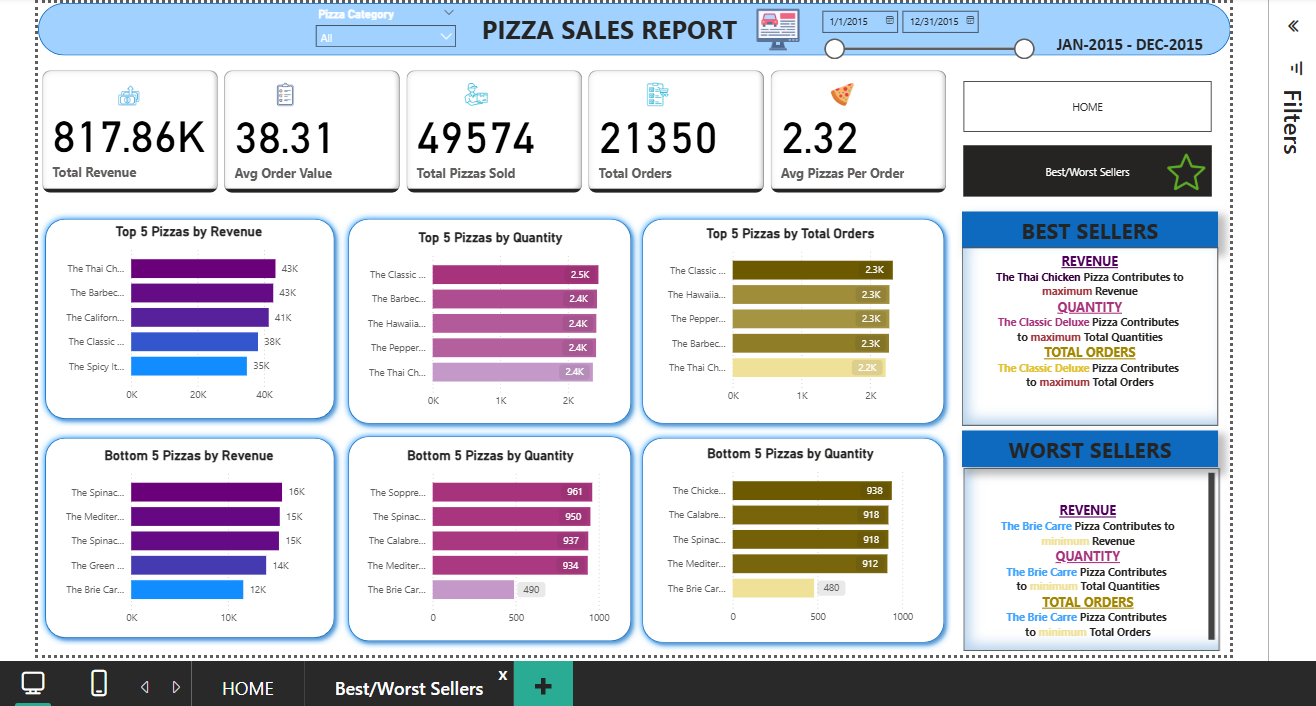

The page's visual inventory and layout, read from the dashboard file:
{"tool":"powerbi","page":{"name":"Best/Worst Sellers","canvas":[1500,820],"ordinal":1},"visuals":[{"type":"cardVisual","fields":{"Data":["pizza_sales.Total Revenue","pizza_sales.Avg Order Value","pizza_sales.Total Pizzas Sold","pizza_sales.Total Orders","pizza_sales.Avg Pizzas Per Order"]},"box":[0,80,1148,164],"z":0},{"type":"shape","box":[0,0,1500,66],"z":1000},{"type":"textbox","box":[550,6,336,56],"z":2000},{"type":"textbox","box":[1276,34,196,42],"z":3000},{"type":"image","box":[886,0,88,66],"z":4000},{"type":"shape","box":[0,262,382,270],"z":5000},{"type":"textbox","box":[1162,262,322,46],"z":6000},{"type":"textbox","box":[1162,308,322,224],"z":7000},{"type":"textbox","box":[1164,584,322,230],"z":8000},{"type":"textbox","box":[1162,538,322,46],"z":9000},{"type":"slicer","fields":{"Values":["pizza_sales.pizza_category"]},"box":[340,0,196,66],"z":10000},{"type":"slicer","fields":{"Values":["pizza_sales.order_date"]},"box":[975.3,0,288.6,75.5],"z":11000},{"type":"shape","box":[382,262,374,276],"z":12000},{"type":"shape","box":[750,262,398,276],"z":13000},{"type":"shape","box":[0,538,382,270],"z":14000},{"type":"shape","box":[382,536,374,276],"z":15000},{"type":"shape","box":[750,538,398,276],"z":16000},{"type":"barChart","title":"Top 5 Pizzas by Revenue","fields":{"Category":["pizza_sales.pizza_name"],"Y":["pizza_sales.Total Revenue"]},"box":[19,278,342,233],"z":17000},{"type":"barChart","title":"Bottom 5 Pizzas by Revenue","fields":{"Category":["pizza_sales.pizza_name"],"Y":["pizza_sales.Total Revenue"]},"box":[19,559,342,233],"z":18000},{"type":"barChart","title":"Top 5 Pizzas by Quantity","fields":{"Category":["pizza_sales.pizza_name"],"Y":["pizza_sales.Total Pizzas Sold"]},"box":[398,284,342,233],"z":19000},{"type":"barChart","title":"Bottom 5 Pizzas by Quantity","fields":{"Category":["pizza_sales.pizza_name"],"Y":["pizza_sales.Total Pizzas Sold"]},"box":[398,559,342,233],"z":20000},{"type":"barChart","title":"Top 5 Pizzas by Total Orders","fields":{"Category":["pizza_sales.pizza_name"],"Y":["pizza_sales.Total Orders"]},"box":[776,280,342,233],"z":21000},{"type":"barChart","title":"Bottom 5 Pizzas by Quantity","fields":{"Category":["pizza_sales.pizza_name"],"Y":["pizza_sales.Total Orders"]},"box":[776,557,342,233],"z":22000},{"type":"pageNavigator","box":[1164,180,312,64],"z":23000},{"type":"pageNavigator","box":[1164,98,312,64],"z":24000},{"type":"image","box":[1414,182,58,62],"z":25000}]}

Visuals, with their boxes on the page's 1500x820 design canvas (x1, y1, x2, y2). These are canvas units, not pixel positions in the 1316x706 screenshot, which may show the page scaled, cropped or inside an application window:
cardVisual - pizza_sales.Total Revenue x pizza_sales.Avg Order Value: (x1=0, y1=80, x2=1148, y2=244)
shape: (x1=0, y1=0, x2=1500, y2=66)
textbox: (x1=550, y1=6, x2=886, y2=62)
textbox: (x1=1276, y1=34, x2=1472, y2=76)
image: (x1=886, y1=0, x2=974, y2=66)
shape: (x1=0, y1=262, x2=382, y2=532)
textbox: (x1=1162, y1=262, x2=1484, y2=308)
textbox: (x1=1162, y1=308, x2=1484, y2=532)
textbox: (x1=1164, y1=584, x2=1486, y2=814)
textbox: (x1=1162, y1=538, x2=1484, y2=584)
slicer - pizza_sales.pizza_category: (x1=340, y1=0, x2=536, y2=66)
slicer - pizza_sales.order_date: (x1=975, y1=0, x2=1264, y2=76)
shape: (x1=382, y1=262, x2=756, y2=538)
shape: (x1=750, y1=262, x2=1148, y2=538)
shape: (x1=0, y1=538, x2=382, y2=808)
shape: (x1=382, y1=536, x2=756, y2=812)
shape: (x1=750, y1=538, x2=1148, y2=814)
"Top 5 Pizzas by Revenue" barChart: (x1=19, y1=278, x2=361, y2=511)
"Bottom 5 Pizzas by Revenue" barChart: (x1=19, y1=559, x2=361, y2=792)
"Top 5 Pizzas by Quantity" barChart: (x1=398, y1=284, x2=740, y2=517)
"Bottom 5 Pizzas by Quantity" barChart: (x1=398, y1=559, x2=740, y2=792)
"Top 5 Pizzas by Total Orders" barChart: (x1=776, y1=280, x2=1118, y2=513)
"Bottom 5 Pizzas by Quantity" barChart: (x1=776, y1=557, x2=1118, y2=790)
pageNavigator: (x1=1164, y1=180, x2=1476, y2=244)
pageNavigator: (x1=1164, y1=98, x2=1476, y2=162)
image: (x1=1414, y1=182, x2=1472, y2=244)
